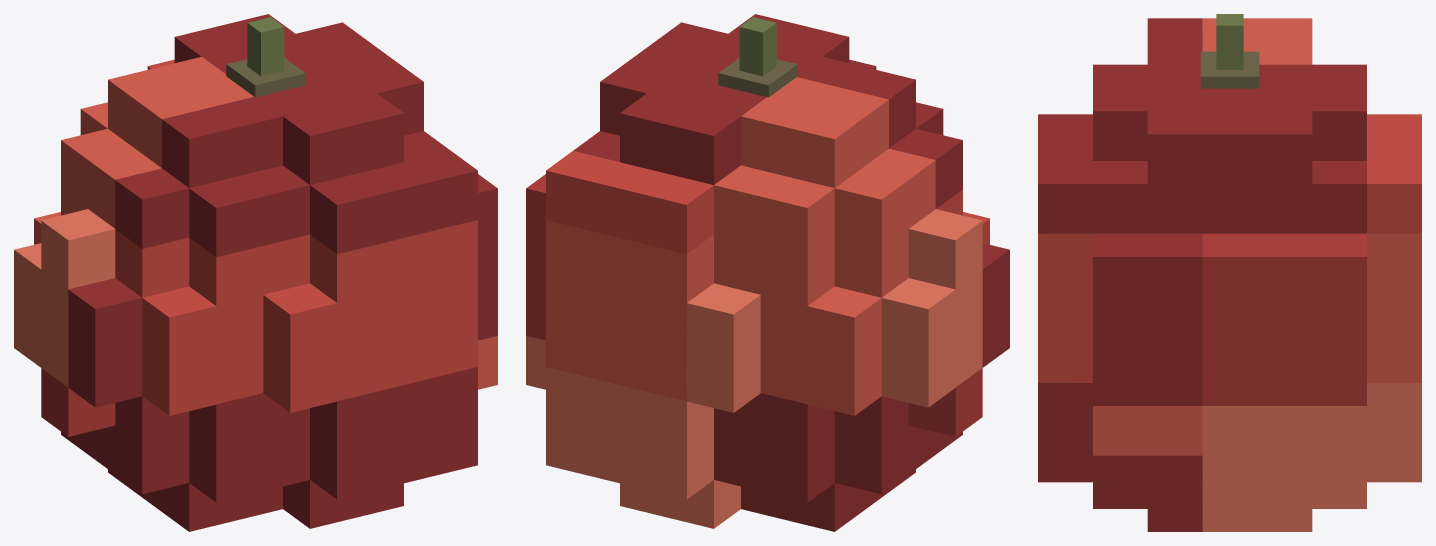
Rendered from AC-02_cabocla.glb.
3 views of the same model, side by side, from view 1: azimuth 30°, elevation 25°; view 2: azimuth 150°, elevation 25°; view 3: azimuth 270°, elevation 25° (orthographic).
Parts seen in each view (by area): view 1: Cabocla · original workbench cubes; view 2: Cabocla · original workbench cubes; view 3: Cabocla · original workbench cubes.
Part boxes in pixels (<box>): Cabocla · original workbench cubes: <box>14,14,497,531</box>; Cabocla · original workbench cubes: <box>526,14,1009,531</box>; Cabocla · original workbench cubes: <box>1038,14,1421,531</box>.
Size of the model in its own units: 0.1121 by 0.128 by 0.0981.
